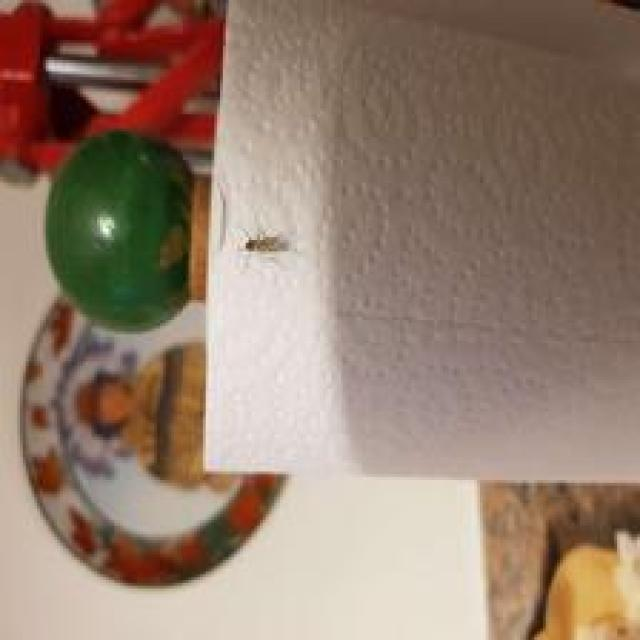Culex: (19, 293, 290, 587)
